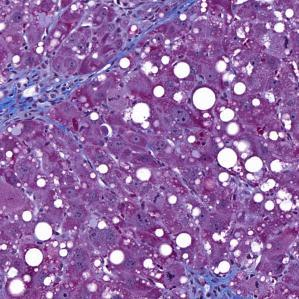fibrosis: (4, 60, 100, 131), (99, 9, 177, 66), (184, 272, 263, 299)
